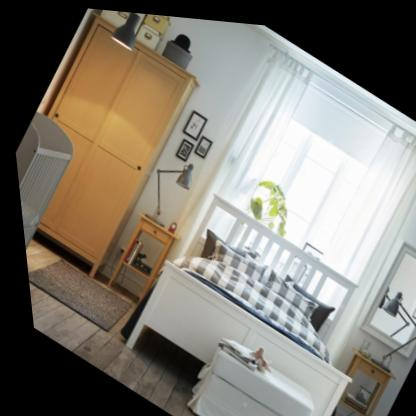Bed: (102, 173, 397, 416)
